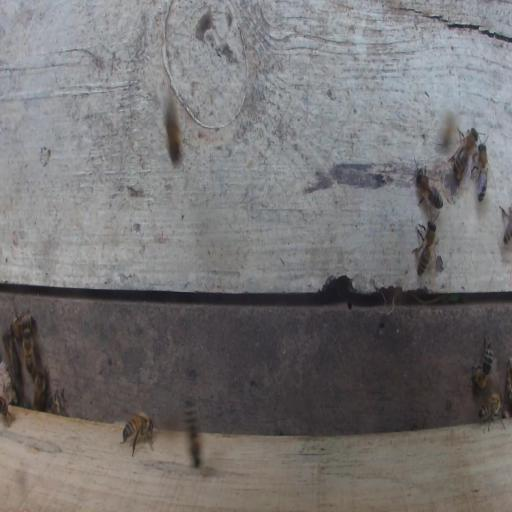bee: (450, 126, 480, 184), (120, 411, 155, 457), (414, 163, 444, 212), (413, 218, 437, 278), (471, 332, 493, 392), (166, 96, 184, 166), (184, 400, 202, 469), (478, 391, 507, 432), (471, 142, 490, 204), (3, 335, 21, 387), (10, 310, 36, 340), (22, 329, 37, 378), (33, 369, 47, 410), (48, 389, 68, 416), (0, 395, 12, 427)
